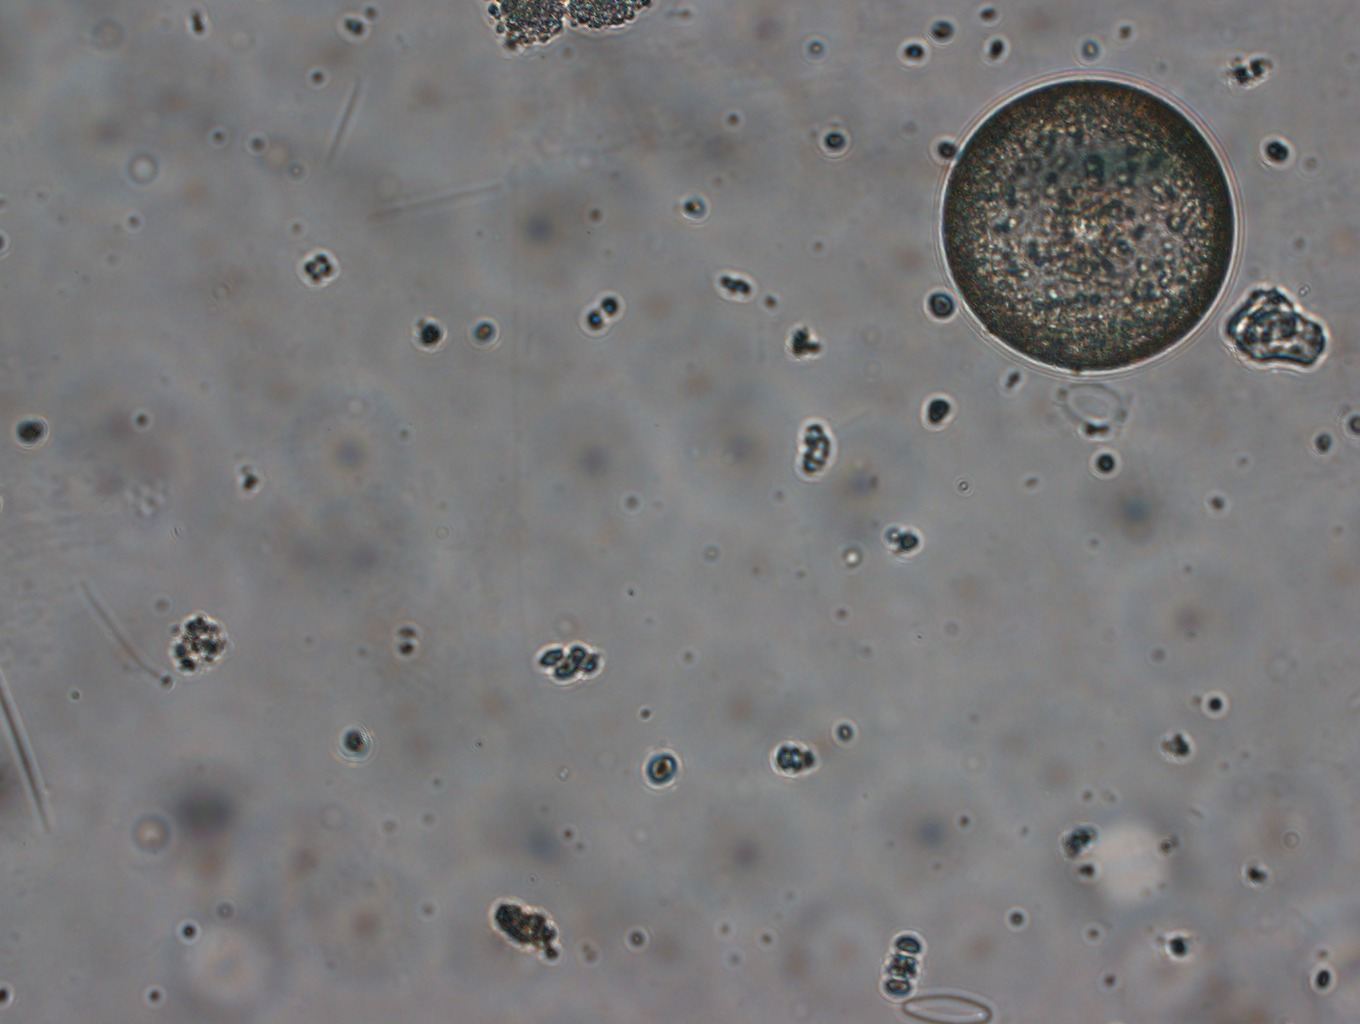coscinodiscus: (936, 73, 1241, 382)
